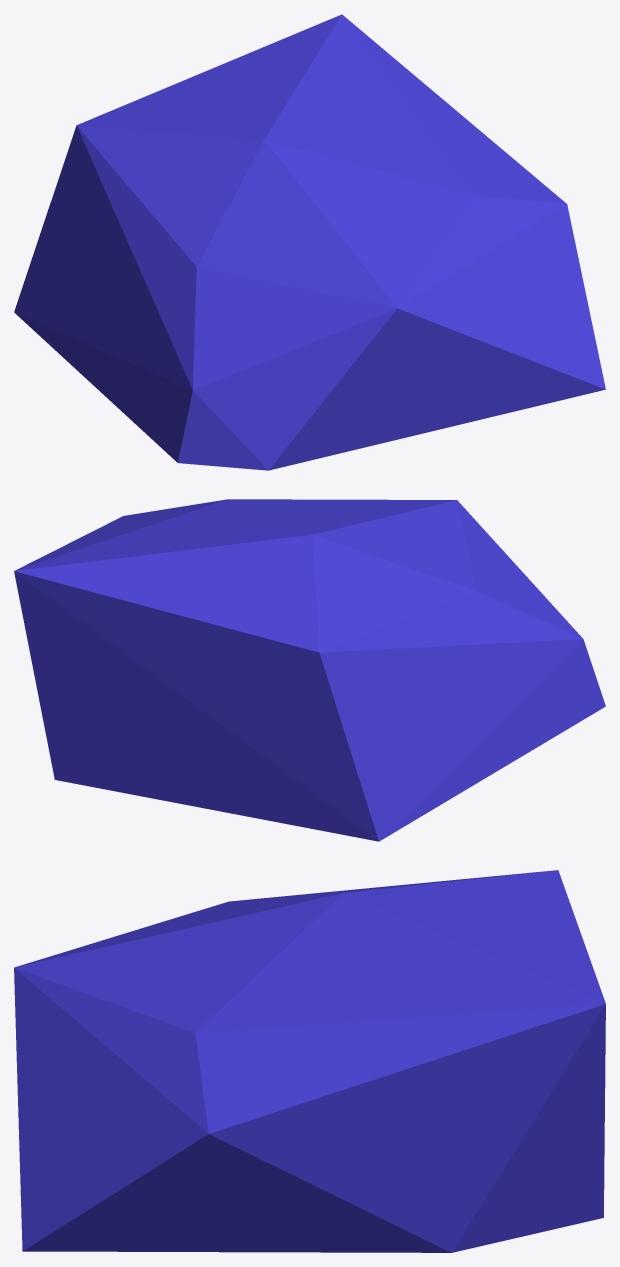
The model's file is Boulder_05_Collider_01.FBX.
3 views of the same model, one above another, from view 1: azimuth 30°, elevation 25°; view 2: azimuth 150°, elevation 25°; view 3: azimuth 270°, elevation 25° (orthographic). The views are drawn at different scales.
Visible parts, largest first — view 1: COLLIDER1; view 2: COLLIDER1; view 3: COLLIDER1.
Part boxes in pixels (box(x1,y1,x2,y2)): COLLIDER1: box(14, 14, 605, 470); COLLIDER1: box(14, 499, 605, 841); COLLIDER1: box(14, 870, 605, 1252).
Size of the model in its own units: 105 by 46.21 by 104.
